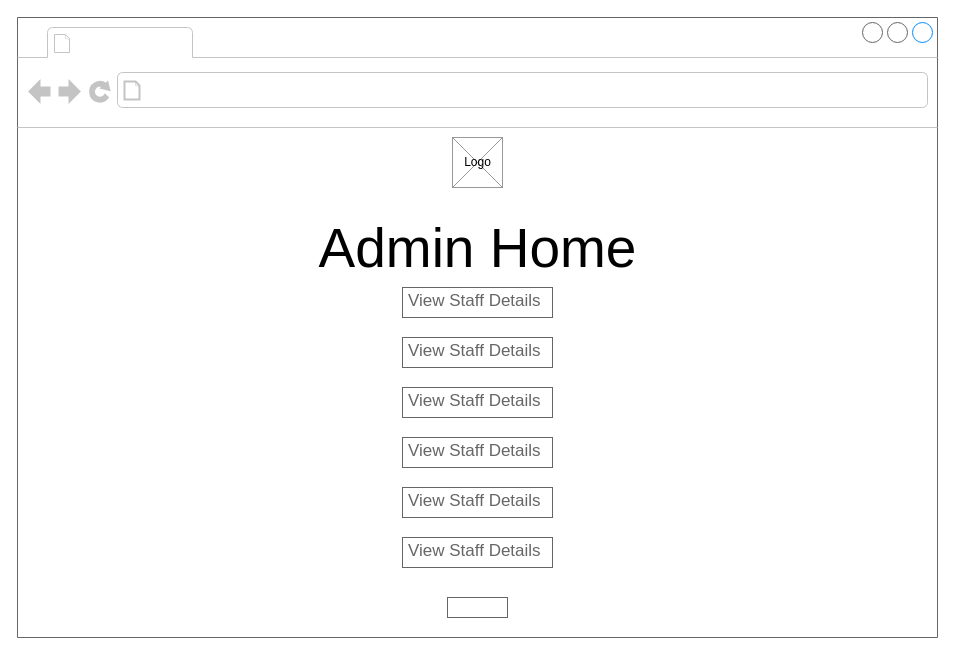
This 955x655 diagram has some shape labels left out. The shapes that lost their labels are listed below. From the top down, each one's centre as x and y in pixels, then its label:
At pixel 132 42: "Page 1".
At pixel 272 90: "https://www.Admin_Home.html".
At pixel 477 607: "BACK".
